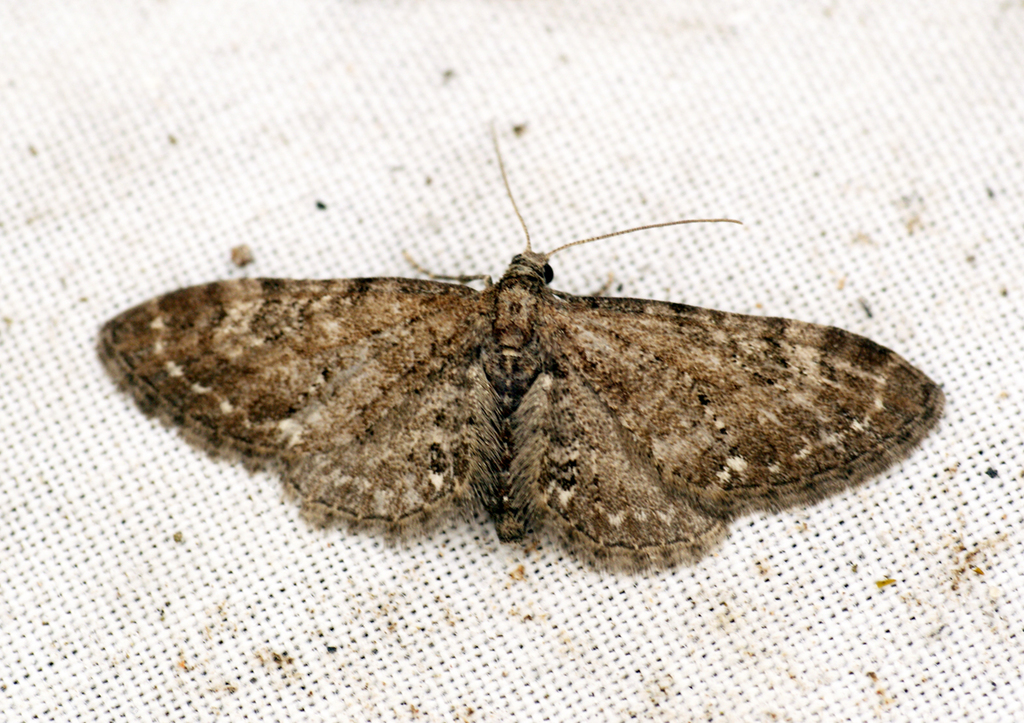Butterfly: (77, 249, 949, 564)
